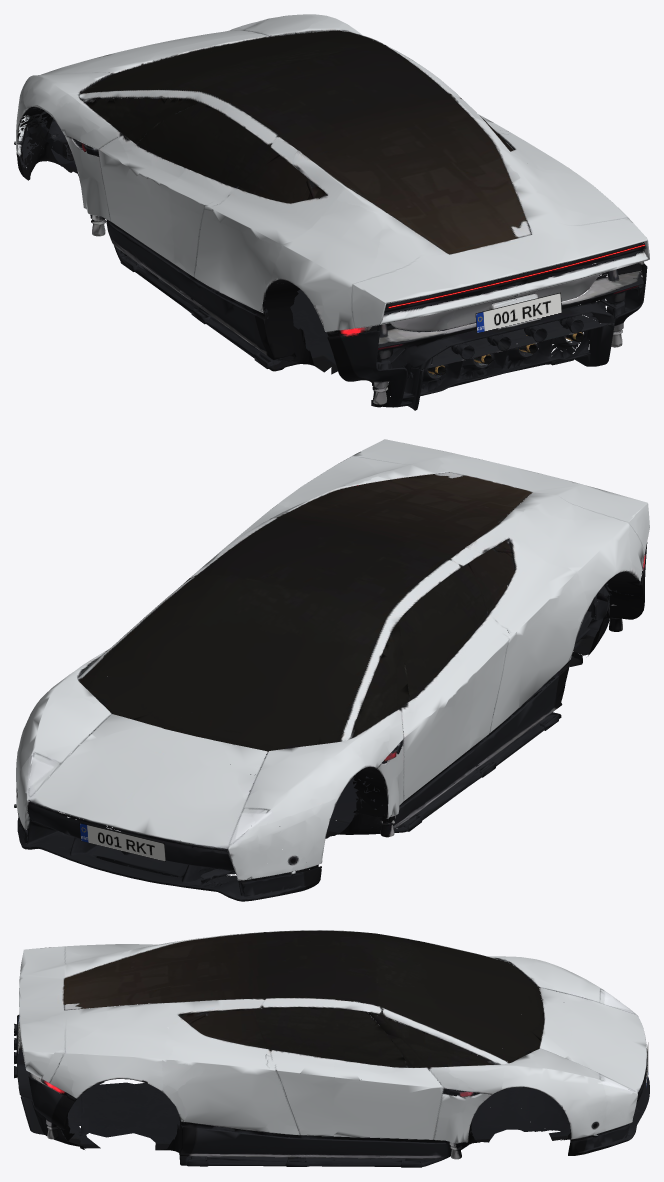
Rendered from rocket.glb.
3 renders of one model, top to bottom at view 1: azimuth 30°, elevation 25°; view 2: azimuth 150°, elevation 25°; view 3: azimuth 270°, elevation 25°, orthographic. The views are drawn at different scales.
Parts seen in each view (by area): view 1: rocket_glb; view 2: rocket_glb; view 3: rocket_glb.
Boxes of the visible parts, box(x1,y1,x2,y2) form: rocket_glb: box(14, 14, 649, 410); rocket_glb: box(14, 439, 649, 901); rocket_glb: box(14, 930, 649, 1167).
Size of the model in its own units: 1.93 by 1.12 by 4.24.
Materials: 3 (3 with a texture image).
